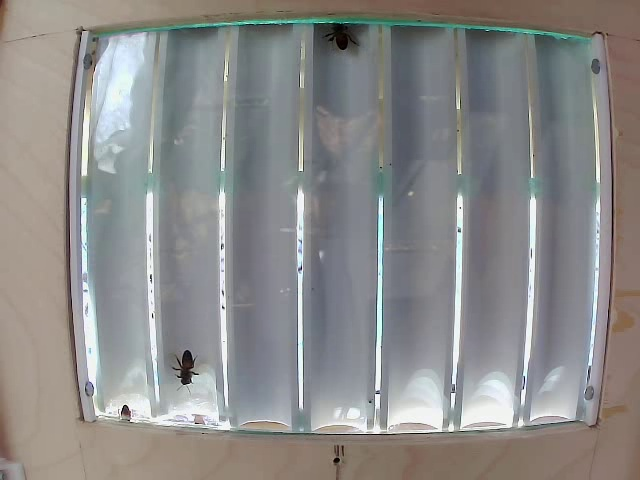bee: (169, 341, 216, 385), (331, 10, 354, 66)
